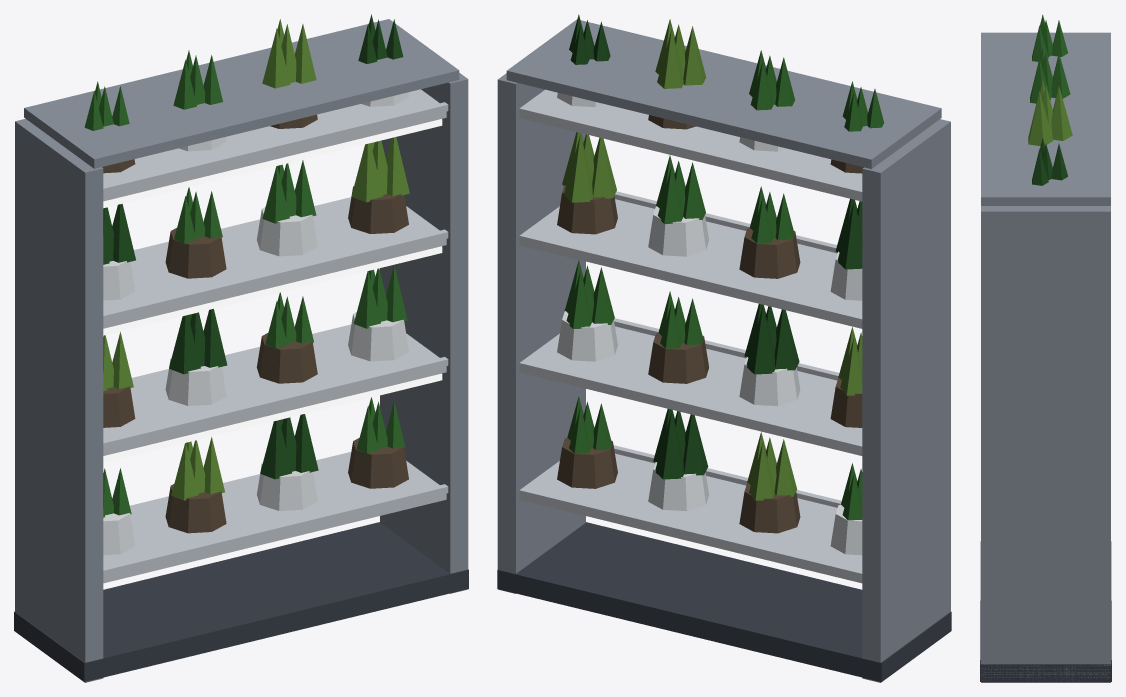
File: planter_herb_shelf_rack.glb
3 views of the same model, side by side, from view 1: azimuth 30°, elevation 25°; view 2: azimuth 150°, elevation 25°; view 3: azimuth 270°, elevation 25° (orthographic). The views are drawn at different scales.
Visible parts, largest first — view 1: planter_herb_shelf_rack; view 2: planter_herb_shelf_rack; view 3: planter_herb_shelf_rack.
Part boxes in pixels (bbox=[...]): planter_herb_shelf_rack: bbox=[14, 14, 468, 682]; planter_herb_shelf_rack: bbox=[497, 14, 951, 682]; planter_herb_shelf_rack: bbox=[980, 14, 1111, 682].
Bounding box in the file's own units: 1.26 × 1.81 × 0.406.
